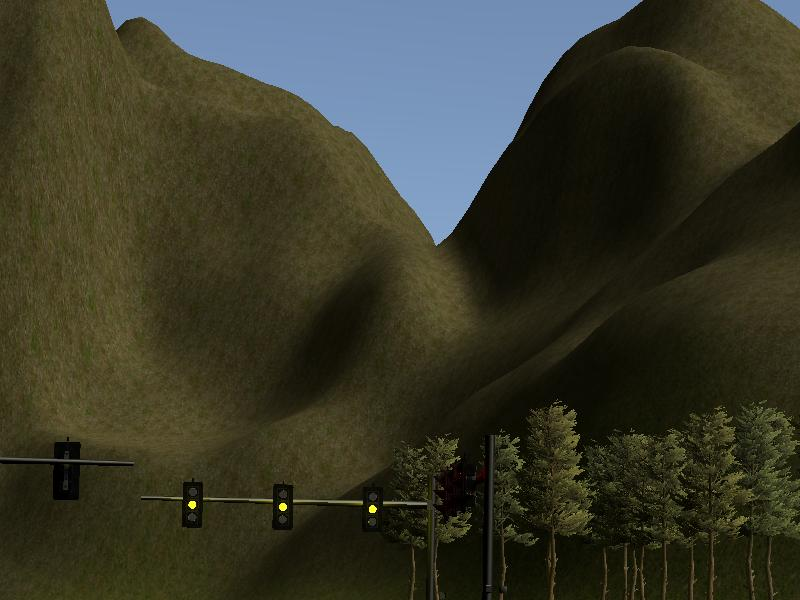Yellow: (183, 481, 204, 528), (363, 487, 383, 531), (273, 483, 292, 529)
